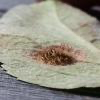Apple rust leaf: (0, 1, 99, 93)
